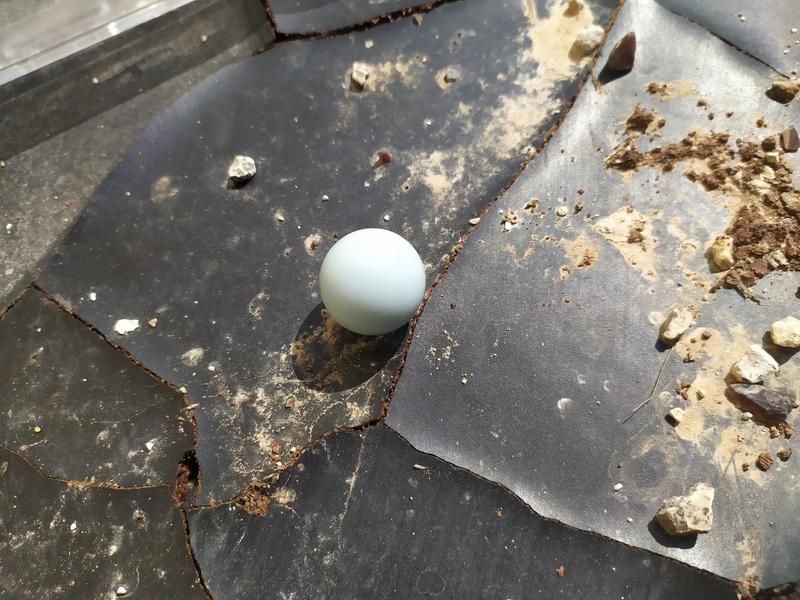Warning: (316, 225, 430, 339)
